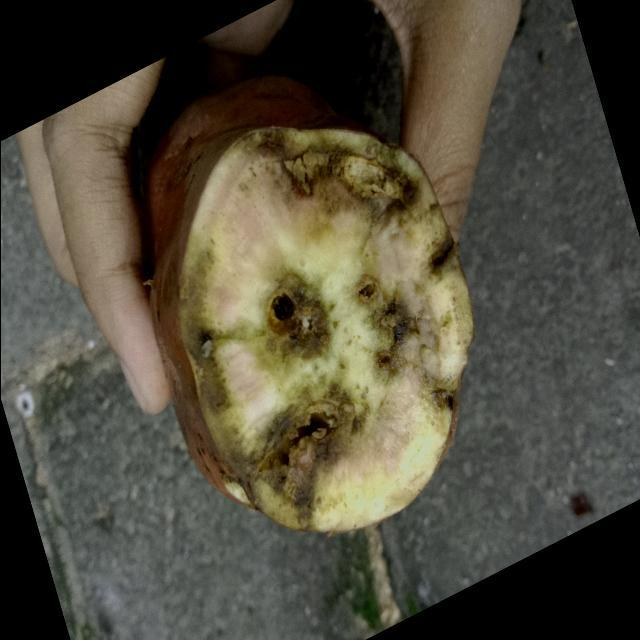Sick Sweet Potato_Tuber Rot: (178, 128, 472, 532)
